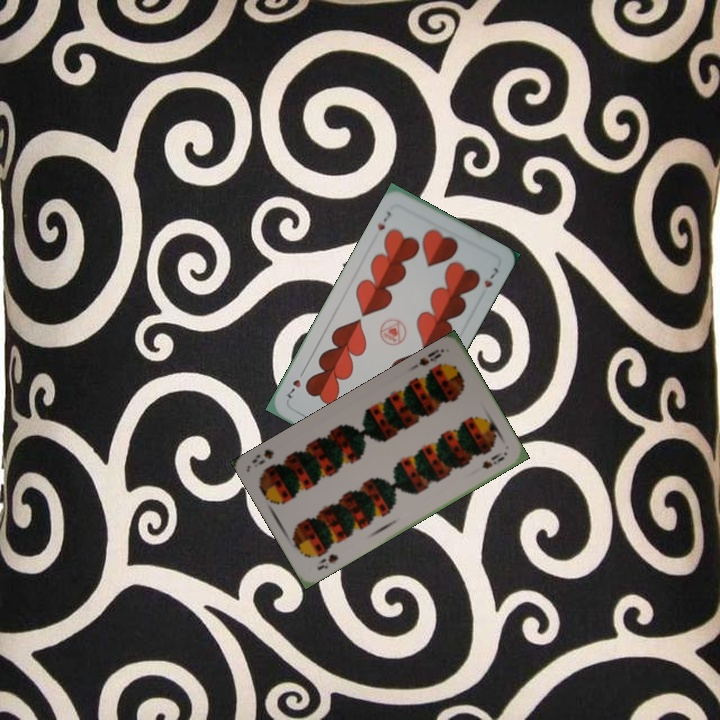H7: (373, 207, 394, 233)
S8: (313, 550, 341, 573), (415, 349, 444, 368)
